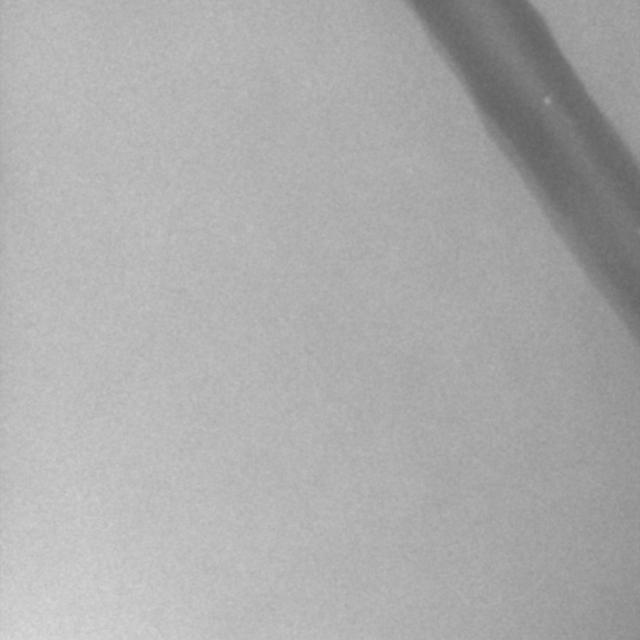air hole: (541, 94, 552, 107)
